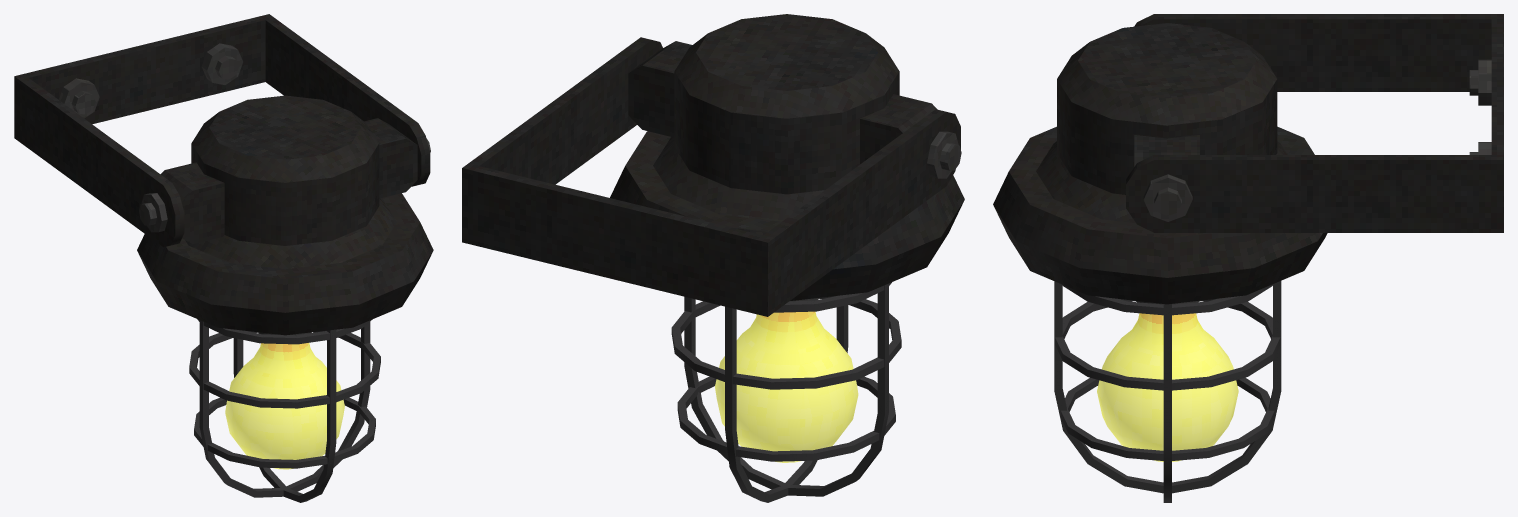
Rendered from lamp_mx_1_a_on.glb.
The picture shows the model from 3 angles, left to right: view 1: azimuth 30°, elevation 25°; view 2: azimuth 150°, elevation 25°; view 3: azimuth 270°, elevation 25°; orthographic projection. The views are drawn at different scales.
Parts seen in each view (by area): view 1: lamp_mx_1_a_on; view 2: lamp_mx_1_a_on; view 3: lamp_mx_1_a_on.
Part boxes in pixels (left/top/right/bottom): lamp_mx_1_a_on: left=14, top=14, right=433, bottom=502; lamp_mx_1_a_on: left=462, top=14, right=964, bottom=502; lamp_mx_1_a_on: left=993, top=14, right=1503, bottom=502.
Size of the model in its own units: 0.1876 by 0.2352 by 0.2522.
Materials: 3 (3 with a texture image).
